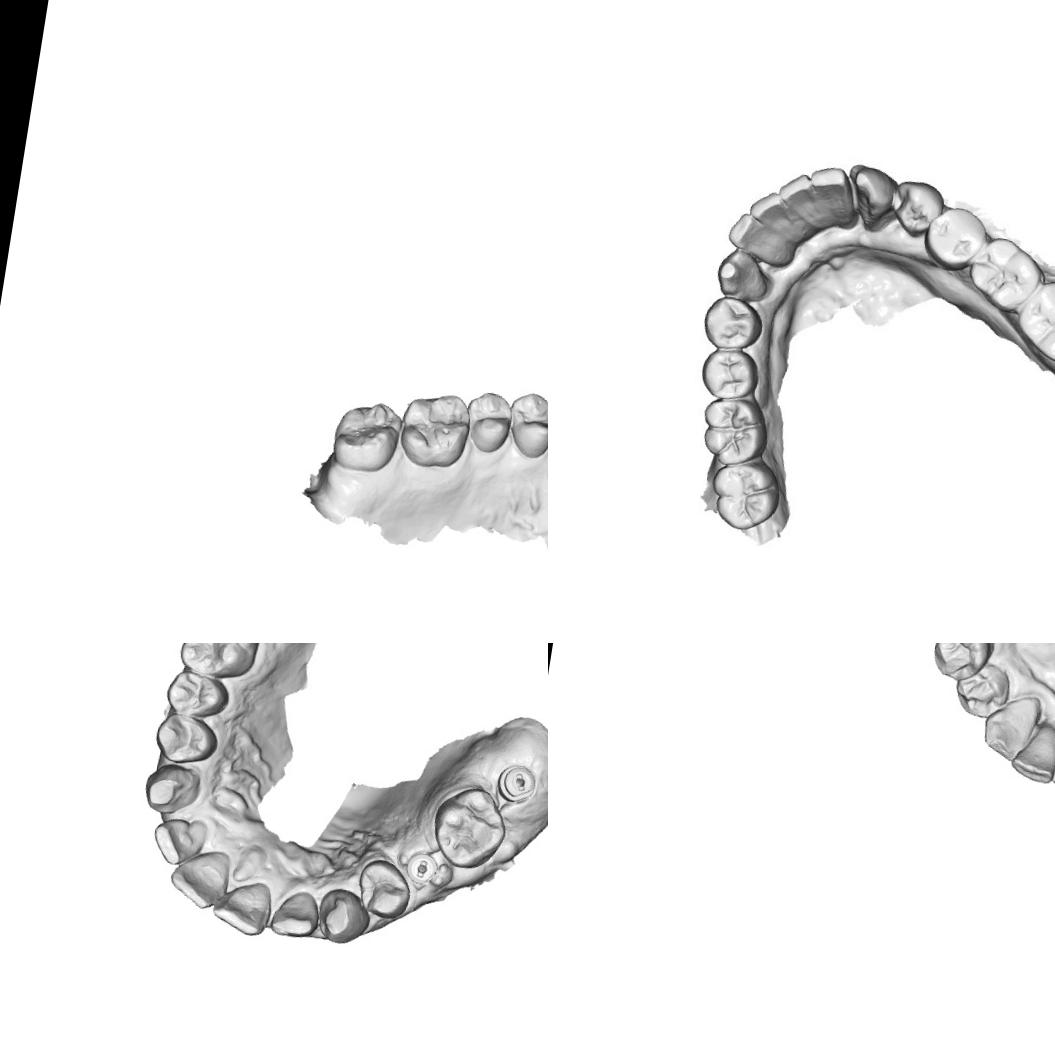canine: (976, 688, 1045, 768), (139, 758, 205, 821), (846, 158, 899, 235), (312, 884, 373, 950), (716, 248, 768, 302)
implant_minus: (492, 759, 542, 809), (400, 846, 444, 890)
incisor: (164, 842, 237, 914), (724, 212, 800, 276), (207, 873, 277, 940), (778, 170, 836, 240), (806, 164, 863, 230), (748, 190, 812, 248), (148, 813, 212, 871), (1006, 715, 1055, 790), (267, 886, 324, 942)
molar: (424, 778, 514, 876), (394, 386, 475, 474), (964, 233, 1043, 315), (703, 459, 784, 536), (693, 391, 770, 470), (328, 396, 404, 476), (1013, 273, 1055, 368), (174, 643, 265, 686)
premolar: (149, 708, 224, 772), (350, 854, 416, 926), (882, 174, 946, 245), (161, 663, 235, 724), (948, 657, 1013, 726), (696, 292, 762, 355), (460, 387, 516, 457), (924, 202, 984, 267), (698, 346, 758, 405), (926, 643, 998, 691), (503, 387, 548, 463)
